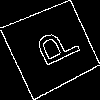P: (26, 23, 82, 73)
